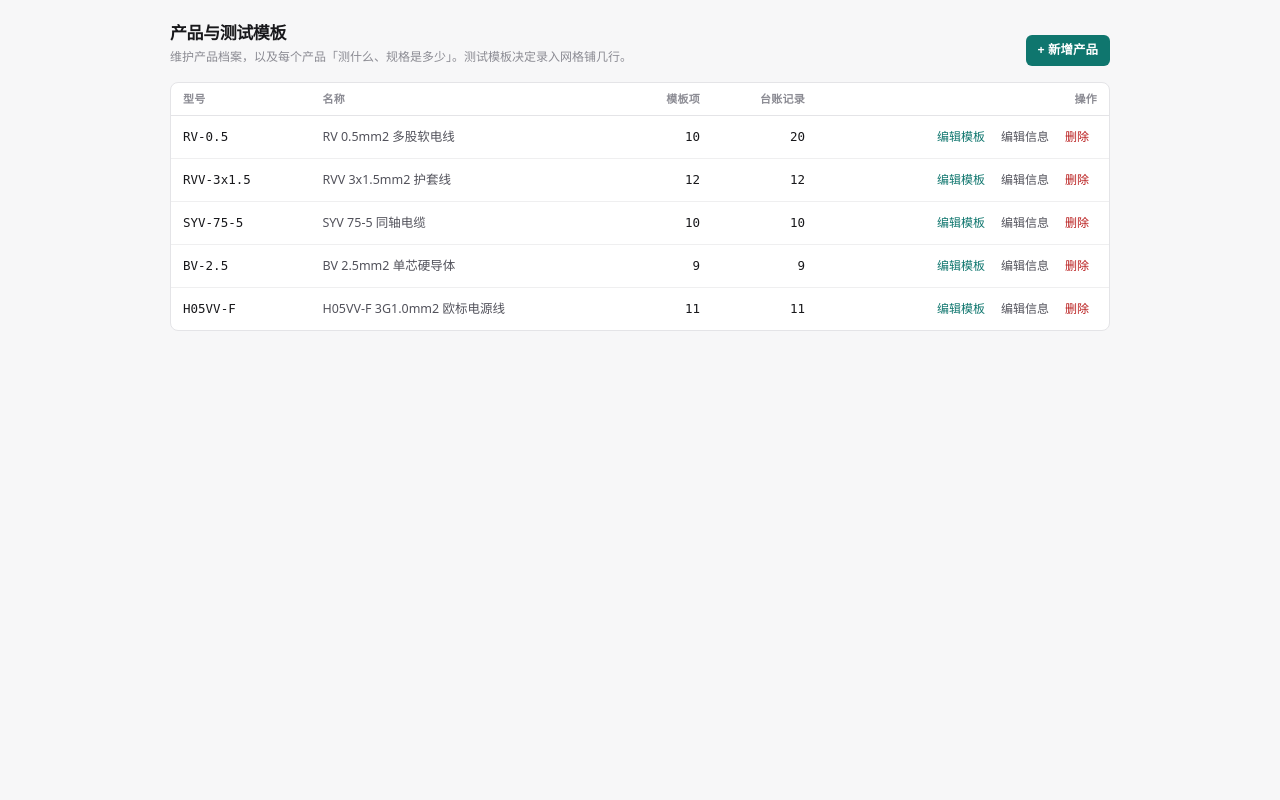
工单 05 — 产品与测试模板管理 › 编辑模板：打开后能看到每行规格被解析成的判定规则，写错规格当场拦住保存
Click the button "编辑模板" in the row of "RV-0.5" at x=961, y=137, box [929,124,993,150]
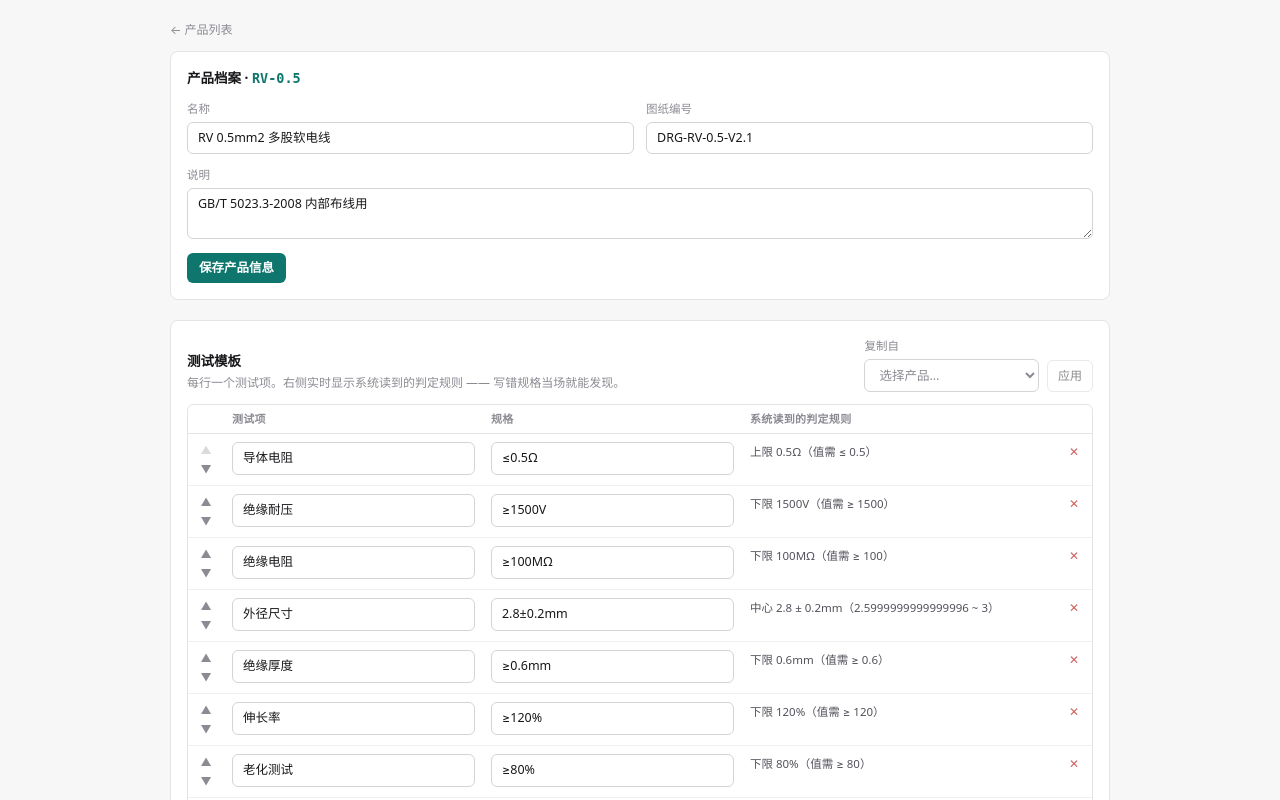
Check: the heading "测试模板" is shown, box [187,352,241,370]
Check: the text "上限 0.5Ω（值需 ≤ 0.5）" is shown, box [750,444,877,459]
把第一行规格改成一坨无法识别的文字
Replace the text in the 2nd field with placeholder "如 ≤0.5Ω / 合格" with "大概不超过半欧吧" at x=612, y=458, box [491,442,734,475]
(page scrolled)
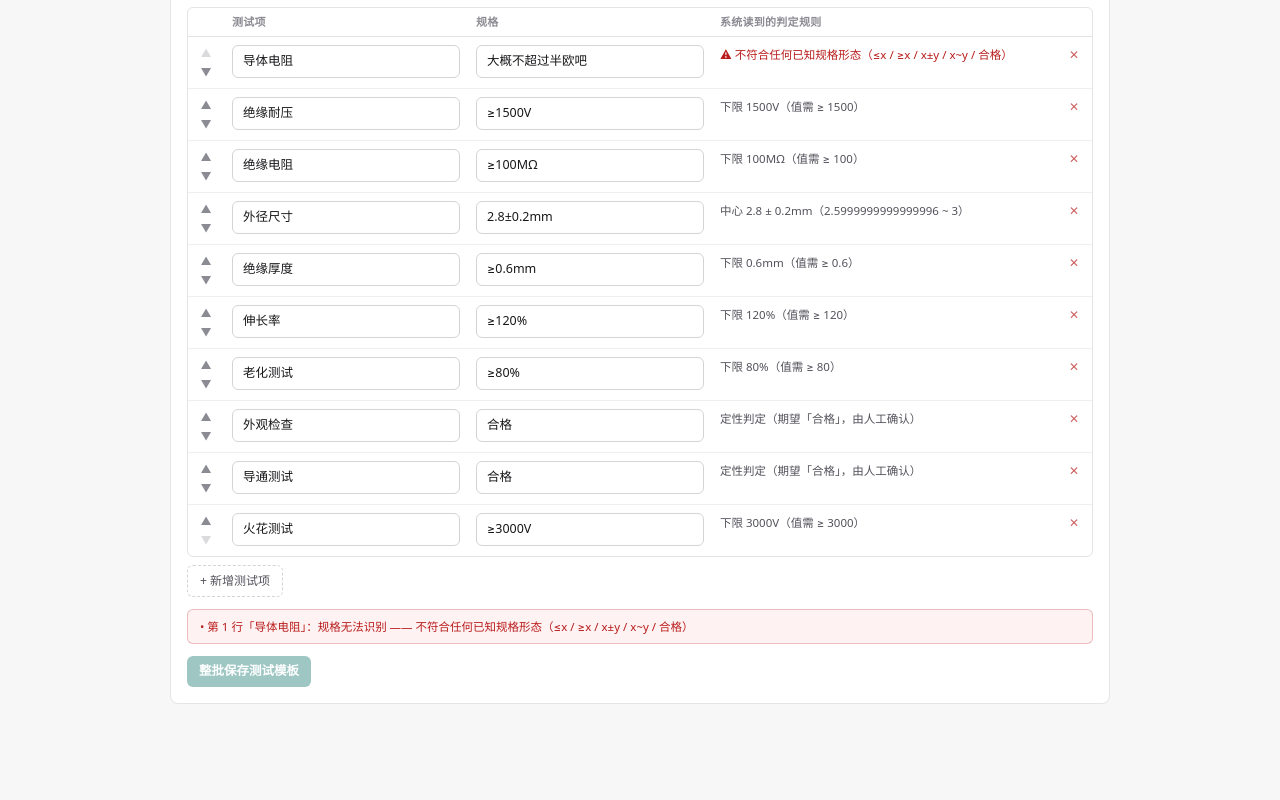
Check: the button "整批保存测试模板" is disabled, box [187,656,311,687]
Check: the list item "规格无法识别" is shown, box [207,619,694,634]
